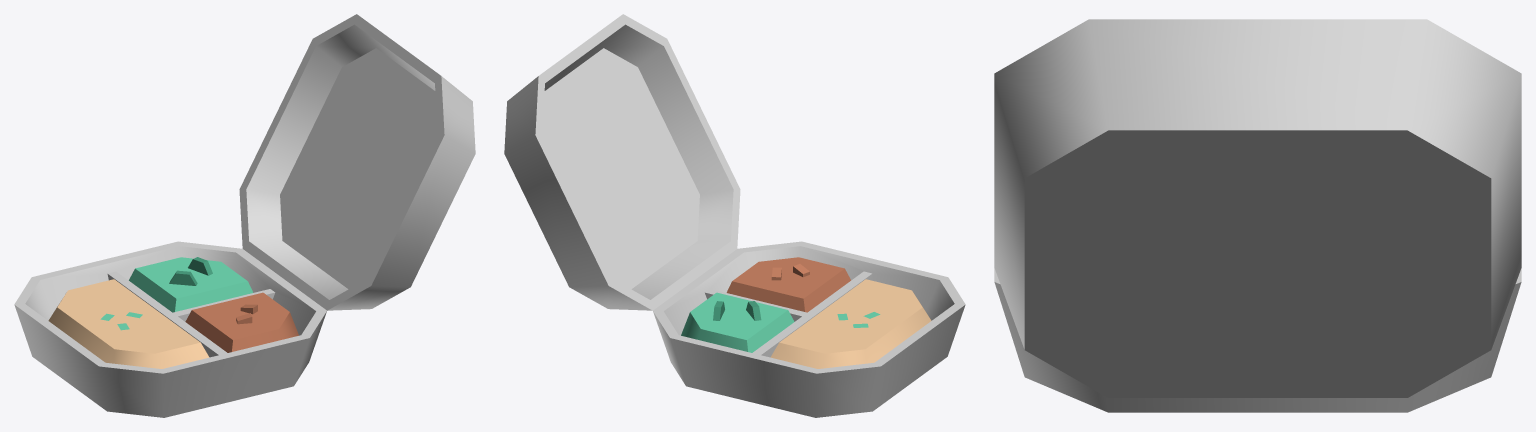
Rendered from styrofoamDinner.dae.
3 views of the same model, side by side, from view 1: azimuth 30°, elevation 25°; view 2: azimuth 150°, elevation 25°; view 3: azimuth 270°, elevation 25° (orthographic). The views are drawn at different scales.
Visible parts, largest first — view 1: lid, styrofoamDinner; view 2: lid, styrofoamDinner; view 3: lid, styrofoamDinner.
Part boxes in pixels (left/top/right/bottom): lid: left=239, top=14, right=475, bottom=310; styrofoamDinner: left=14, top=241, right=326, bottom=417; lid: left=504, top=14, right=740, bottom=310; styrofoamDinner: left=653, top=241, right=965, bottom=417; lid: left=994, top=19, right=1521, bottom=397; styrofoamDinner: left=994, top=268, right=1521, bottom=412.
Size of the model in its own units: 1.26 by 0.822 by 0.7589.
